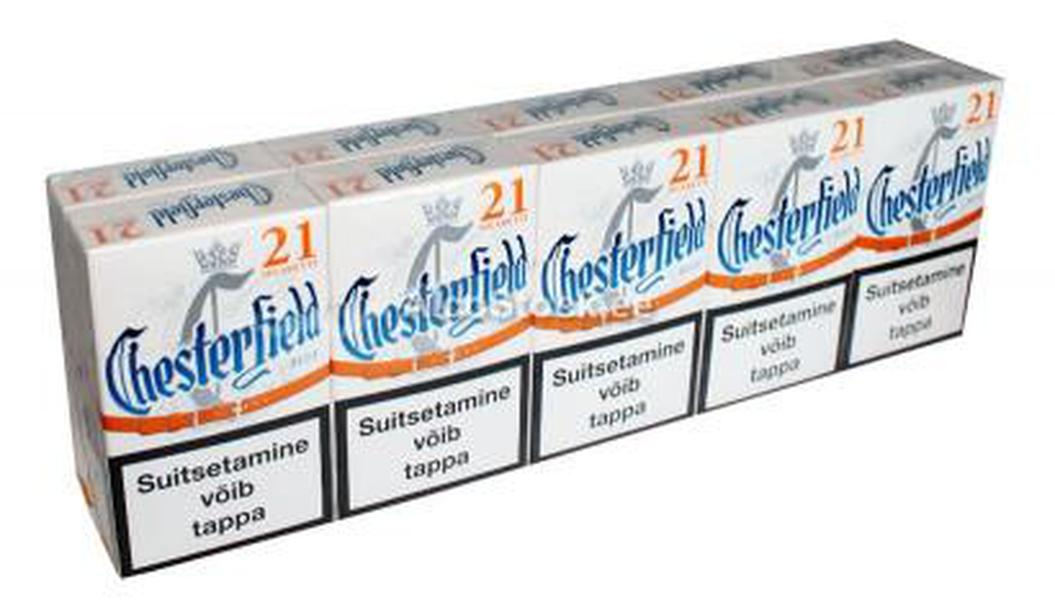chesterfield_blue: (106, 221, 326, 535), (331, 175, 528, 474), (533, 140, 711, 428), (706, 111, 860, 377), (862, 86, 994, 330)
